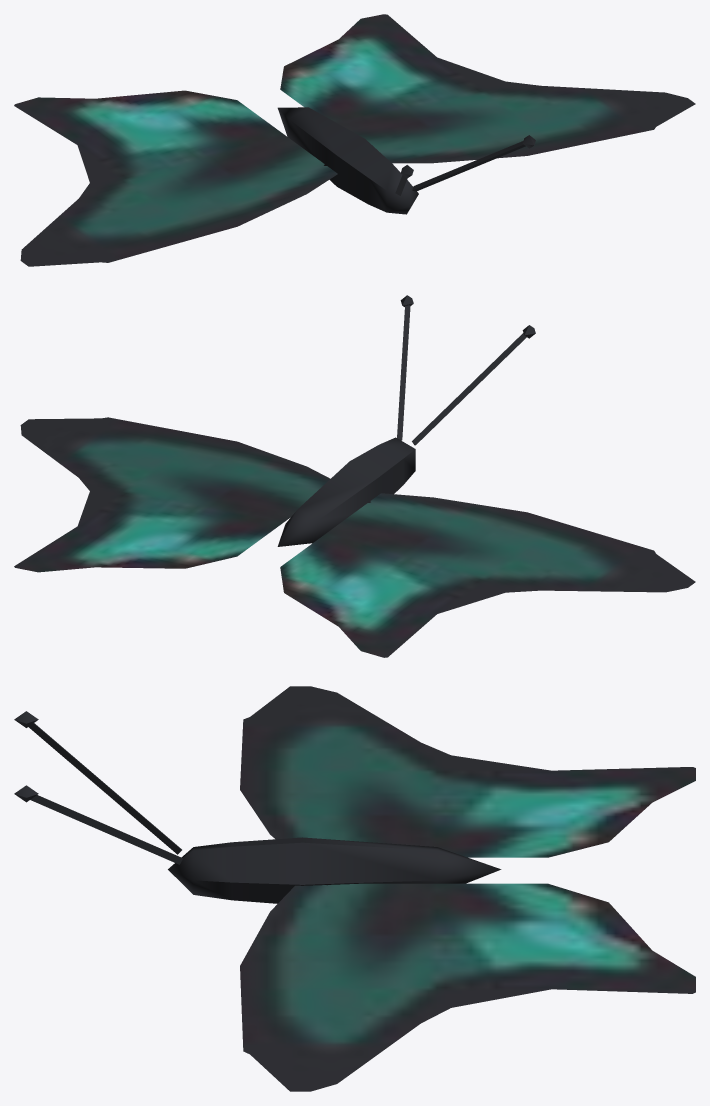
Rendered from peacock-butterfly.glb.
3 renders of one model, top to bottom at view 1: azimuth 30°, elevation 25°; view 2: azimuth 150°, elevation 25°; view 3: azimuth 270°, elevation 25°, orthographic. The views are drawn at different scales.
Parts seen in each view (by area): view 1: peacock-butterfly; view 2: peacock-butterfly; view 3: peacock-butterfly.
Boxes of the visible parts, x1,y1,x2,y2 form: peacock-butterfly: (14, 14, 695, 266); peacock-butterfly: (14, 295, 695, 657); peacock-butterfly: (14, 686, 695, 1091).
Bounding box in the file's own units: 6.38 × 1.12 × 4.53.
Materials: 2 (1 with a texture image).
